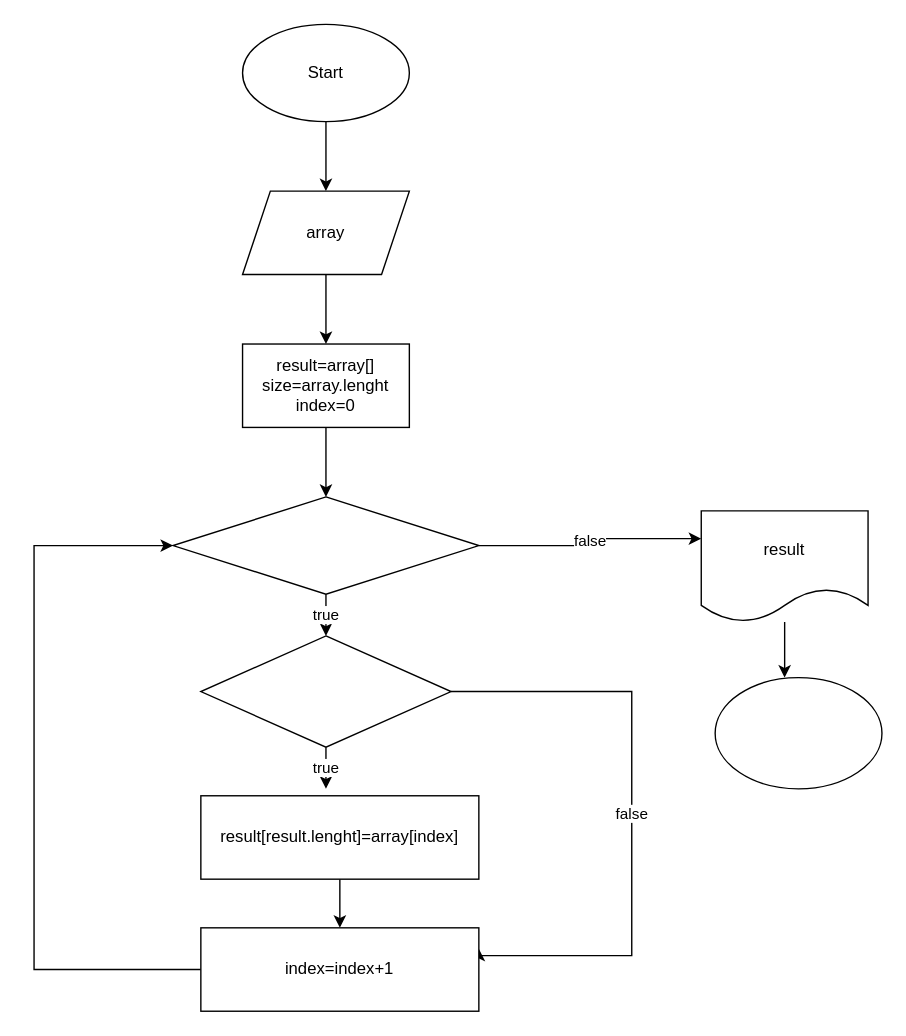
Some shapes in this 906 by 1036 pixel diagram are drawn without their labels. The shapes that lost their labels are listed below. From the top down, each one's centre as x and y in pixels, then its label:
(325,545): index<size
(325,691): array[index].lenght<=3
(798,732): end
